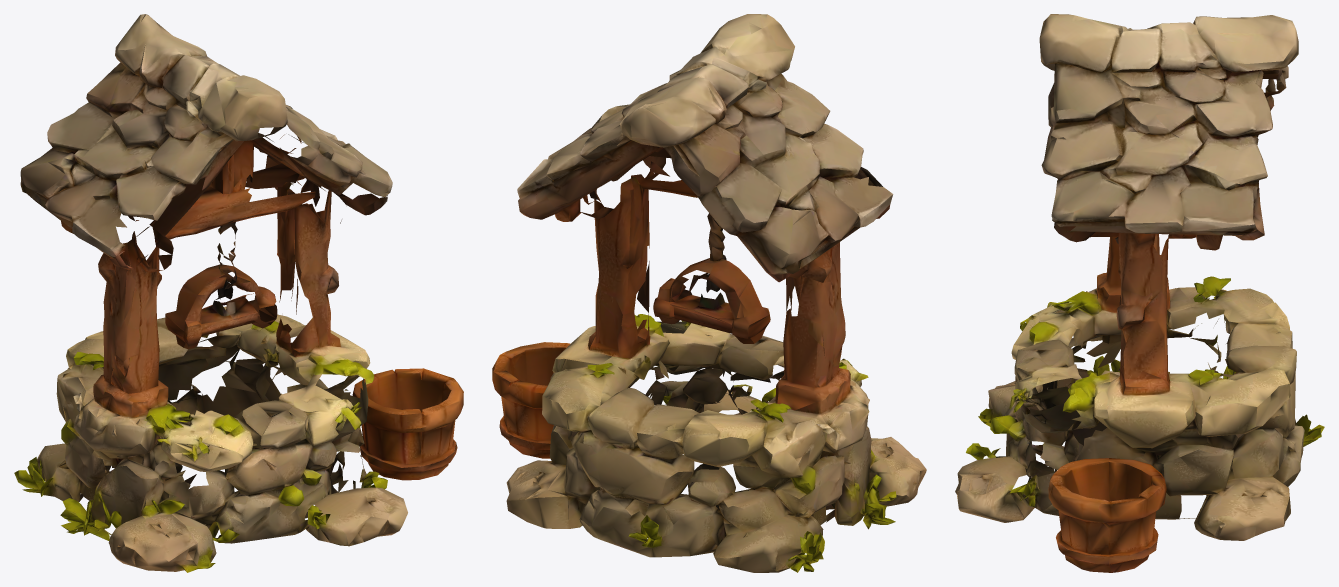
The model's file is tripo-poco154.glb.
3 views of the same model, side by side, from view 1: azimuth 30°, elevation 25°; view 2: azimuth 150°, elevation 25°; view 3: azimuth 270°, elevation 25° (orthographic). The views are drawn at different scales.
Parts seen in each view (by area): view 1: tripo_node_81e19101-522e-4bb0-9f6a-30955b50fafb; view 2: tripo_node_81e19101-522e-4bb0-9f6a-30955b50fafb; view 3: tripo_node_81e19101-522e-4bb0-9f6a-30955b50fafb.
Boxes of the visible parts, left/top/right/bottom form: tripo_node_81e19101-522e-4bb0-9f6a-30955b50fafb: left=14, top=14, right=463, bottom=572; tripo_node_81e19101-522e-4bb0-9f6a-30955b50fafb: left=492, top=14, right=926, bottom=572; tripo_node_81e19101-522e-4bb0-9f6a-30955b50fafb: left=955, top=14, right=1324, bottom=572.
Bounding box in the file's own units: 0.9114 × 0.9781 × 0.7308.
Materials: 1 (1 with a texture image).
